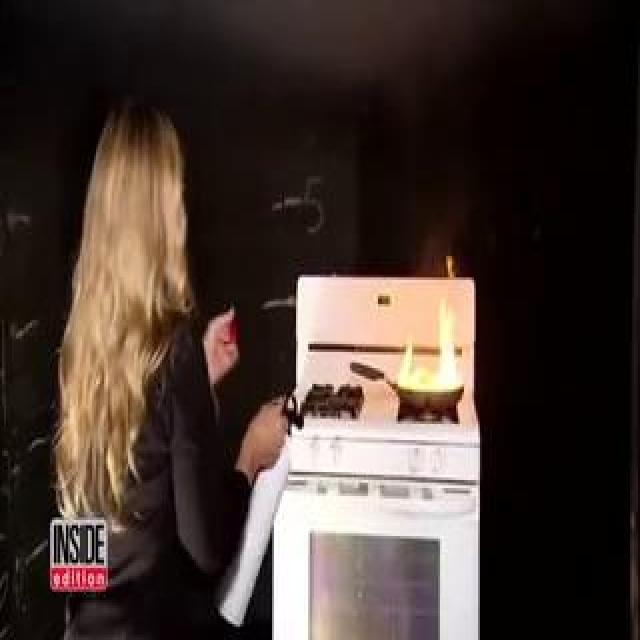Fire: (68, 110, 425, 354)
